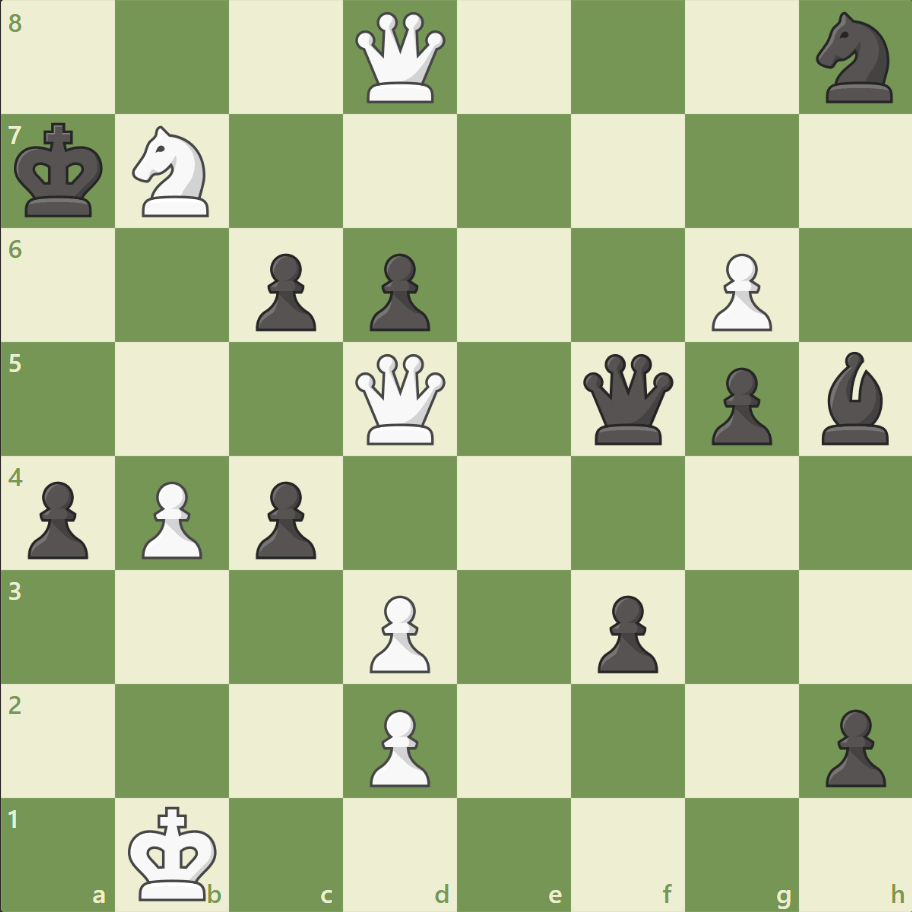K: (124, 798, 224, 906)
N: (124, 121, 222, 223)
P: (701, 246, 776, 337), (133, 473, 208, 564), (361, 586, 435, 677), (361, 700, 435, 791)
Q: (351, 349, 450, 449), (351, 9, 450, 108)
b: (812, 347, 896, 449)
k: (11, 117, 111, 225)
n: (806, 7, 903, 110)
p: (247, 246, 322, 337), (701, 359, 776, 450), (20, 473, 95, 564), (247, 473, 322, 564), (361, 246, 435, 337), (588, 586, 662, 677), (815, 700, 889, 791)
q: (578, 349, 677, 449)
